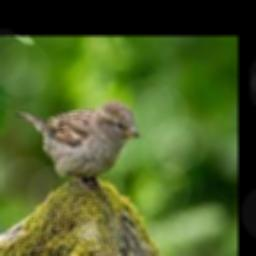Sparrow: (16, 99, 141, 190)
